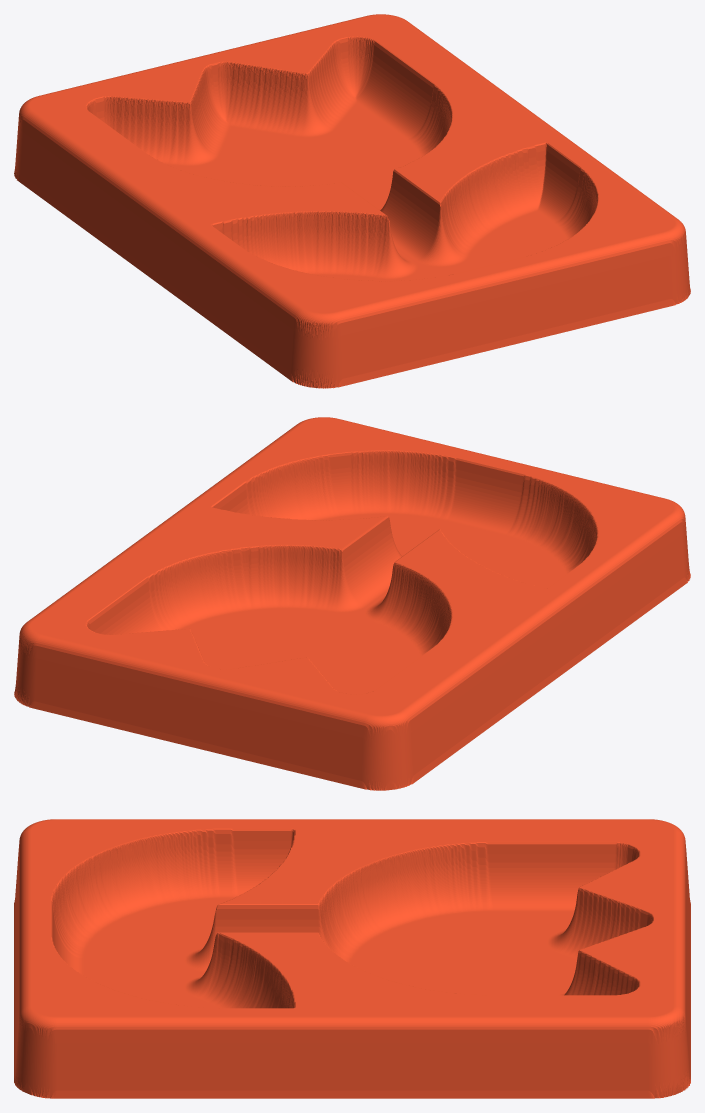
The model's file is mold.glb.
3 renders of one model, top to bottom at view 1: azimuth 30°, elevation 25°; view 2: azimuth 150°, elevation 25°; view 3: azimuth 270°, elevation 25°, orthographic. The views are drawn at different scales.
Visible parts, largest first — view 1: geometry_0; view 2: geometry_0; view 3: geometry_0.
Part boxes in pixels (x1,y1,x2,y2): geometry_0: (14, 14, 690, 388); geometry_0: (14, 417, 690, 790); geometry_0: (14, 819, 690, 1098).
Bounding box in the file's own units: 0.1057 × 0.0175 × 0.1435.
